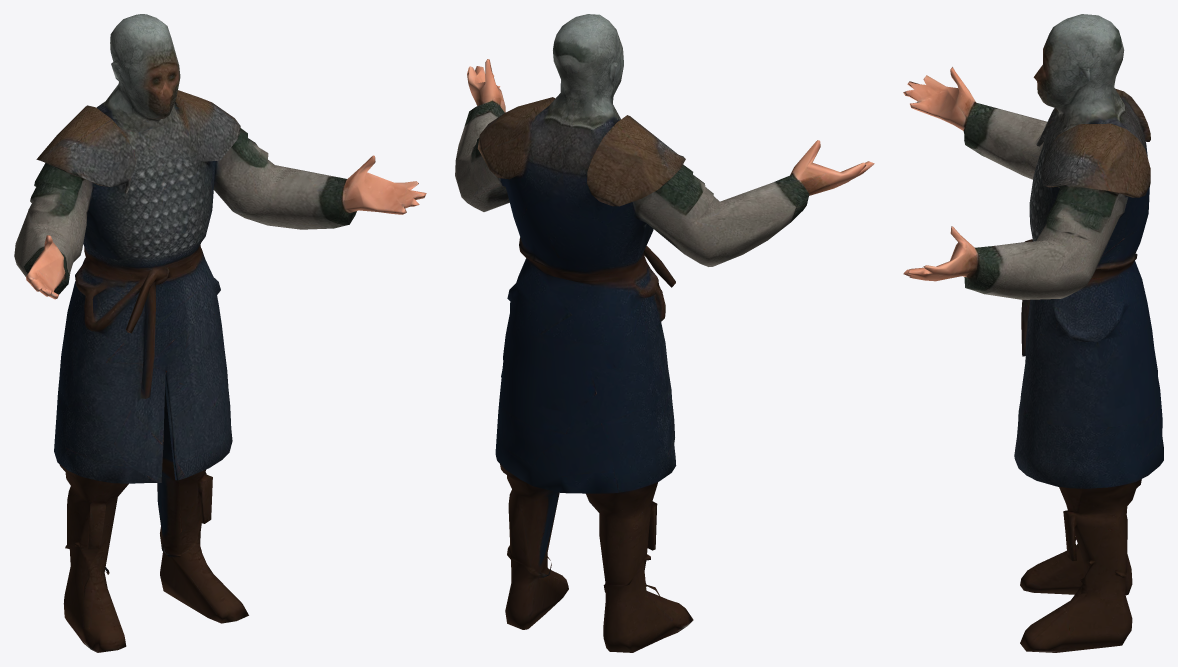
Rendered from unit_NG_DAO.glb.
The picture shows the model from 3 angles, left to right: view 1: azimuth 30°, elevation 25°; view 2: azimuth 150°, elevation 25°; view 3: azimuth 270°, elevation 25°; orthographic projection.
Size of the model in its own units: 1.3 by 1.9 by 0.7488.
1 material, 1 textured.
